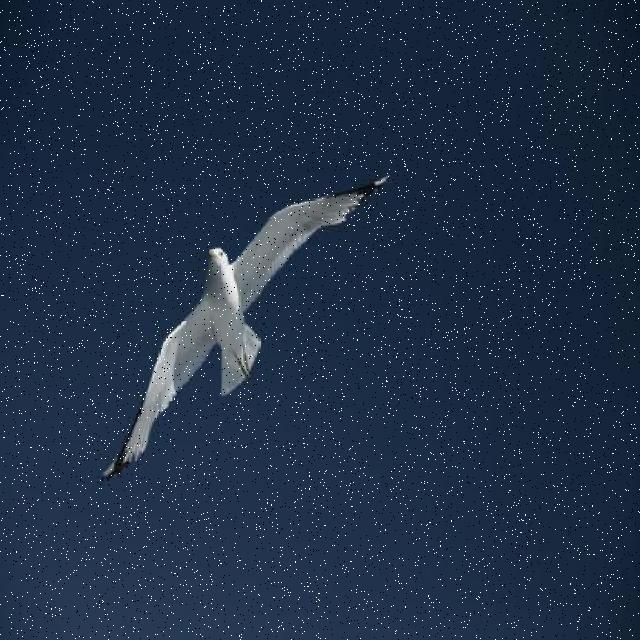bird: (98, 174, 392, 483)
